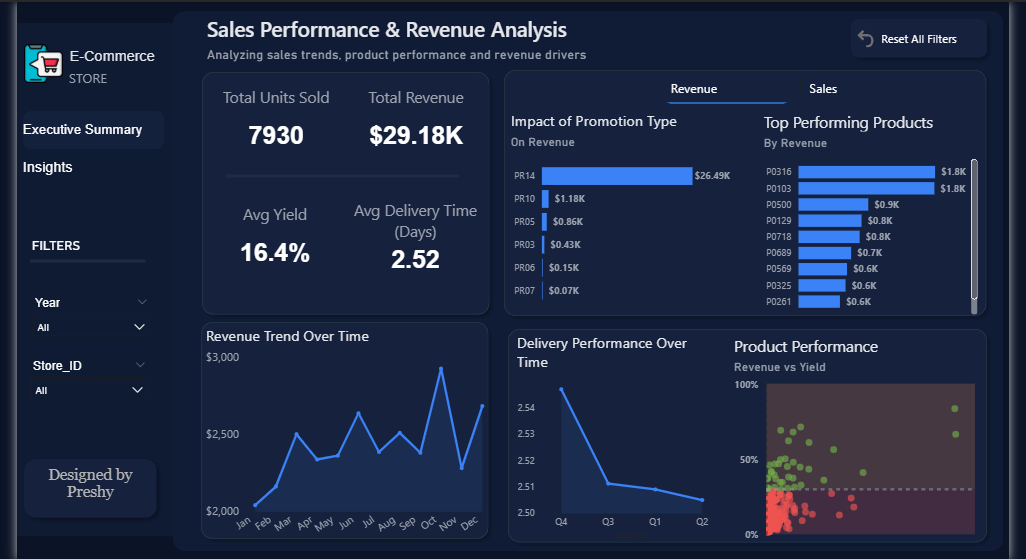

The page's visual inventory and layout, read from the dashboard file:
{"tool":"powerbi","page":{"name":"Page 1","canvas":[1280,720],"ordinal":0},"visuals":[{"type":"shape","box":[0,27.5,203,662.2],"z":0},{"type":"shape","box":[0,581.2,189.4,94],"z":1000},{"type":"shape","box":[201,11.6,1071.3,696.9],"z":2000},{"type":"shape","box":[229.9,81,388.9,331.1],"z":2000,"group":"g2"},{"type":"shape","box":[624.6,412.5,636.1,293.5],"z":3000},{"type":"card","title":"Total Units Sold","fields":{"Values":["Data Measures.Total Sales"]},"box":[242.9,108.5,183.6,99.8],"z":4000,"group":"g2"},{"type":"shape","box":[228.4,403.4,388.9,297.8],"z":4000},{"type":"textbox","title":"Sales Performance & Revenue Analysis","box":[240,17.3,608.7,65.1],"z":5000},{"type":"shape","box":[618.8,79.2,640.5,335.4],"z":5000,"group":"g1"},{"type":"card","title":"Total Revenue","fields":{"Values":["Data Measures.Total Revenue"]},"box":[425.1,108.5,180.7,99.8],"z":6000,"group":"g2"},{"type":"lineChart","fields":{"Y":["Data Measures.Total Revenue"],"Category":["Dim_Date.Month Name"]},"box":[238.6,416.4,377.3,289.2],"z":6000},{"type":"scatterChart","title":"Product Performance","fields":{"Category":["Dim_Product.Product_ID"],"X":["Data Measures.Total Revenue"],"Y":["Data Measures.Average Yield"]},"box":[920,424.5,321.3,272.3],"z":7000},{"type":"card","title":"Avg Delivery Time (Days)","fields":{"Values":["Data Measures.Avg Delivery Time"]},"box":[425.1,254.5,179.3,100],"z":8000,"group":"g2"},{"type":"textbox","title":"Designed by Preshy","box":[14.5,598.6,160.5,53.5],"z":8000},{"type":"slicer","fields":{"Values":["Dim_Date.Year"]},"box":[10.1,374.5,170.6,57.8],"z":9000},{"type":"card","title":"Avg Yield","fields":{"Values":["Data Measures.Average Yield"]},"box":[242.9,258.8,180.7,99.8],"z":10000,"group":"g2"},{"type":"slicer","fields":{"Values":["Dim_Stock.Store_ID"]},"box":[7.2,455.4,170.6,54.9],"z":10000},{"type":"lineChart","title":"Delivery Performance Over Time","fields":{"Y":["Data Measures.Avg Delivery Time"],"Category":["Dim_Date.Quarter"]},"box":[640,425.8,273.5,272.3],"z":11000},{"type":"shape","box":[1067,13,193.7,68],"z":12000},{"type":"barChart","title":"Top Performing Products","fields":{"Y":["Data Measures.Total Revenue"],"Category":["Dim_Product.Product_ID"]},"box":[948.4,125.5,310.8,280.5],"z":12000,"group":"g1"},{"type":"actionButton","box":[1072.8,24.6,44.8,44.8],"z":13000},{"type":"shape","box":[7.2,140.2,182.2,49.2],"z":14000},{"type":"clusteredBarChart","title":"Impact of Promotion Type","fields":{"Y":["Data Measures.Total Revenue"],"Category":["Dim_Product.Promo_Type_1"]},"box":[631.8,139.9,308,258.8],"z":15000,"group":"g1"},{"type":"shape","box":[7.7,188.4,181.9,49],"z":15000},{"type":"shape","box":[17.3,328.2,148.9,13],"z":16000},{"type":"textbox","title":"E-Commerce","box":[62.2,49.2,127,60.7],"z":17000},{"type":"group","id":"g1","title":"Group 1","box":[618.8,79.2,640.5,335.4],"z":18000},{"type":"group","id":"g2","title":"Group 2","box":[229.9,81,388.9,331.1],"z":19000},{"type":"actionButton","box":[5.8,37.6,54.9,83.9],"z":20000},{"type":"advancedSlicerVisual","fields":{"Values":["Revenue & Sales.Revenue & Sales"]},"box":[819.8,86.4,371.6,46],"z":20000,"group":"g1"},{"type":"textbox","title":"FILTERS","box":[14.5,305.1,92.5,23.1],"z":21000},{"type":"shape","box":[270.4,218.3,300.7,13],"z":25000,"group":"g2"}]}

Visuals, with their boxes on the page's 1280x720 design canvas (x1, y1, x2, y2). These are canvas units, not pixel positions in the 1026x559 screenshot, which may show the page scaled, cropped or inside an application window:
shape: <bbox>0, 28, 203, 690</bbox>
shape: <bbox>0, 581, 189, 675</bbox>
shape: <bbox>201, 12, 1272, 708</bbox>
shape: <bbox>230, 81, 619, 412</bbox>
shape: <bbox>625, 412, 1261, 706</bbox>
"Total Units Sold" card: <bbox>243, 108, 426, 208</bbox>
shape: <bbox>228, 403, 617, 701</bbox>
"Sales Performance & Revenue Analysis" textbox: <bbox>240, 17, 849, 82</bbox>
shape: <bbox>619, 79, 1259, 415</bbox>
"Total Revenue" card: <bbox>425, 108, 606, 208</bbox>
lineChart - Data Measures.Total Revenue x Dim_Date.Month Name: <bbox>239, 416, 616, 706</bbox>
"Product Performance" scatterChart: <bbox>920, 424, 1241, 697</bbox>
"Avg Delivery Time (Days)" card: <bbox>425, 254, 604, 354</bbox>
"Designed by Preshy" textbox: <bbox>14, 599, 175, 652</bbox>
slicer - Dim_Date.Year: <bbox>10, 374, 181, 432</bbox>
"Avg Yield" card: <bbox>243, 259, 424, 359</bbox>
slicer - Dim_Stock.Store_ID: <bbox>7, 455, 178, 510</bbox>
"Delivery Performance Over Time" lineChart: <bbox>640, 426, 914, 698</bbox>
shape: <bbox>1067, 13, 1261, 81</bbox>
"Top Performing Products" barChart: <bbox>948, 126, 1259, 406</bbox>
actionButton: <bbox>1073, 25, 1118, 69</bbox>
shape: <bbox>7, 140, 189, 189</bbox>
"Impact of Promotion Type" clusteredBarChart: <bbox>632, 140, 940, 399</bbox>
shape: <bbox>8, 188, 190, 237</bbox>
shape: <bbox>17, 328, 166, 341</bbox>
"E-Commerce" textbox: <bbox>62, 49, 189, 110</bbox>
"Group 1" group: <bbox>619, 79, 1259, 415</bbox>
"Group 2" group: <bbox>230, 81, 619, 412</bbox>
actionButton: <bbox>6, 38, 61, 122</bbox>
advancedSlicerVisual - Revenue & Sales.Revenue & Sales: <bbox>820, 86, 1191, 132</bbox>
"FILTERS" textbox: <bbox>14, 305, 107, 328</bbox>
shape: <bbox>270, 218, 571, 231</bbox>
